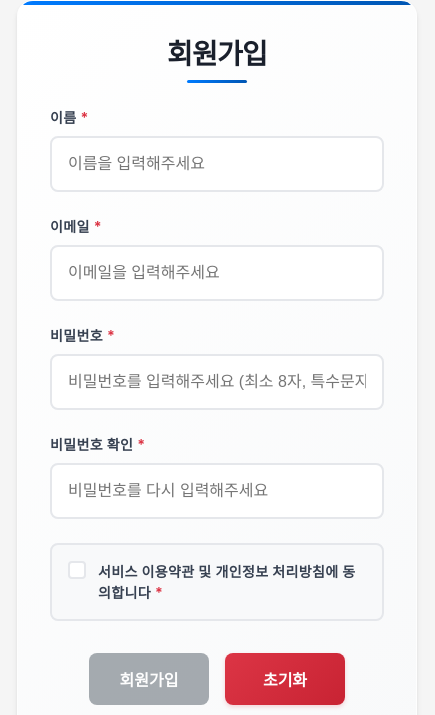
Test: SignUpForm Integration Tests › Form Reset Functionality › should disable submit button after reset
This screenshot has width=435, height=715.
Note: Fill form to enable submit button
In the field labelled "이름*": (217, 164) [50,136,384,192], type "홍길동"
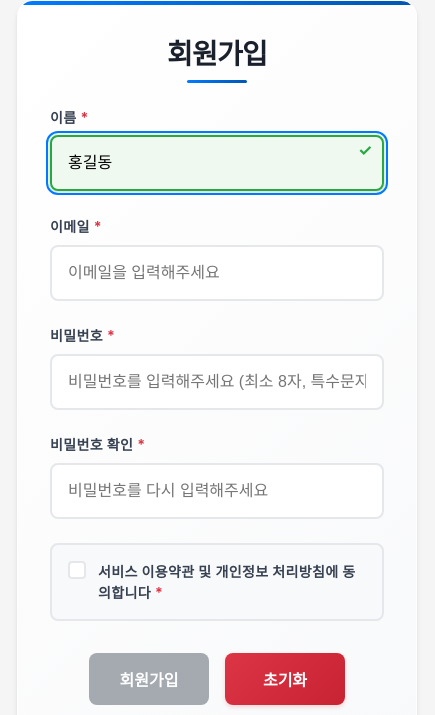
In the field labelled "이메일*": (217, 273) [50,245,384,301], type "hong@example.com"
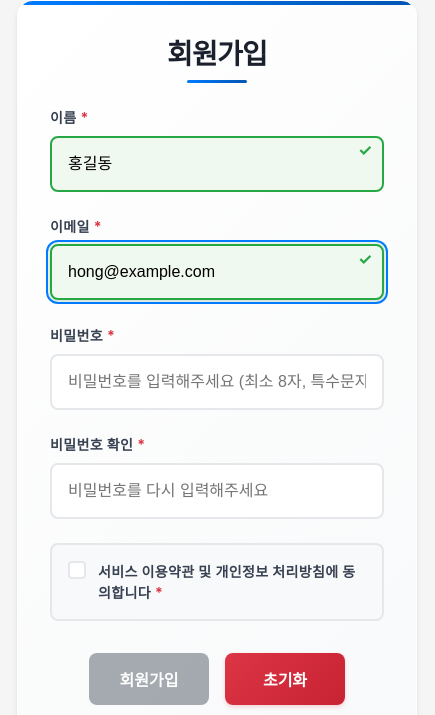
In the password field labelled "비밀번호*": (217, 382) [50,354,384,410], type "password123!"
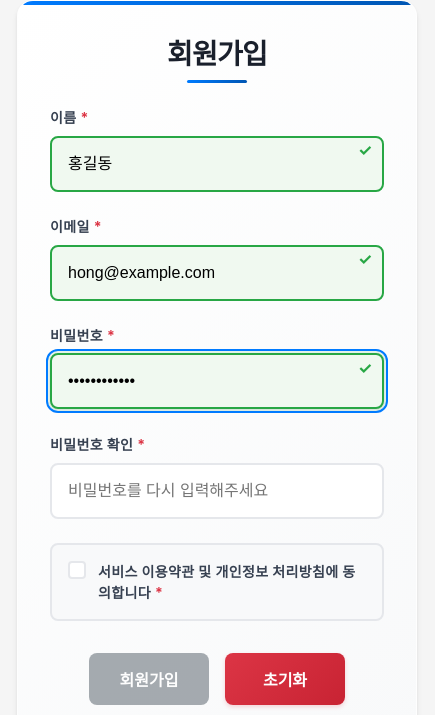
In the password field labelled "비밀번호 확인*": (217, 491) [50,463,384,519], type "password123!"
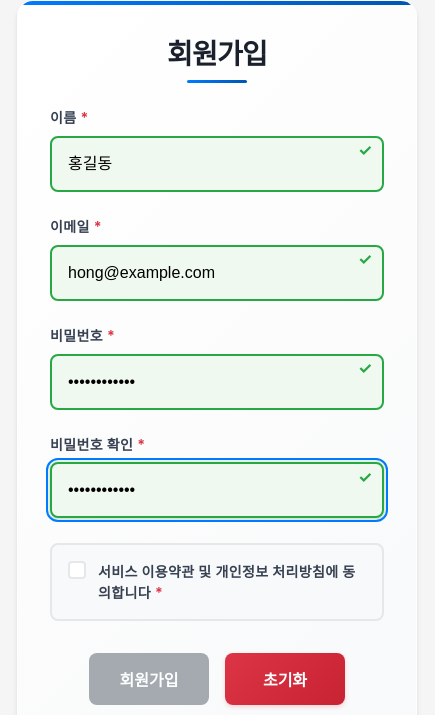
Click the checkbox labelled "서비스 이용약관 및 개인정보 처리방침에 동의합니다*": click(77, 570) [68,561,86,579]
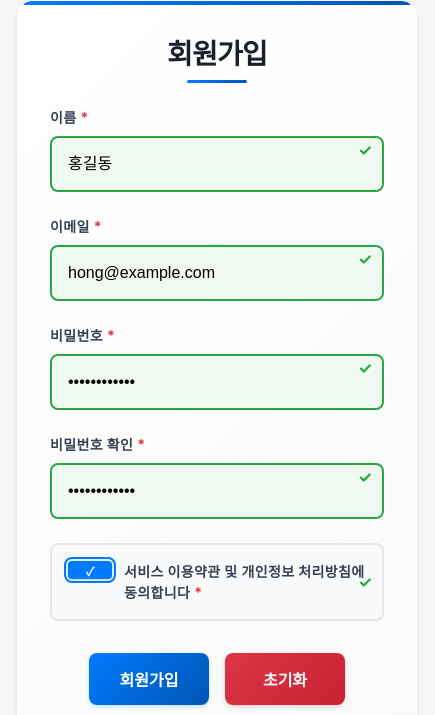
Expected: the button "회원가입" is enabled, [89,653,209,705]
Note: Reset form
Click the button "초기화": click(285, 679) [225,653,345,705]
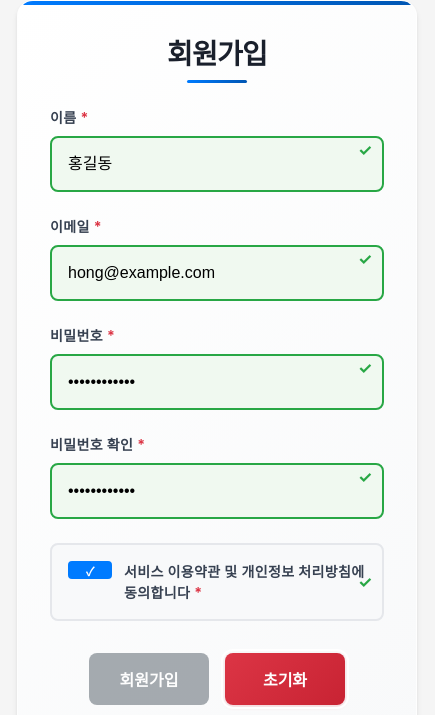
Expected: the button "회원가입" is disabled, [89,653,209,705]
